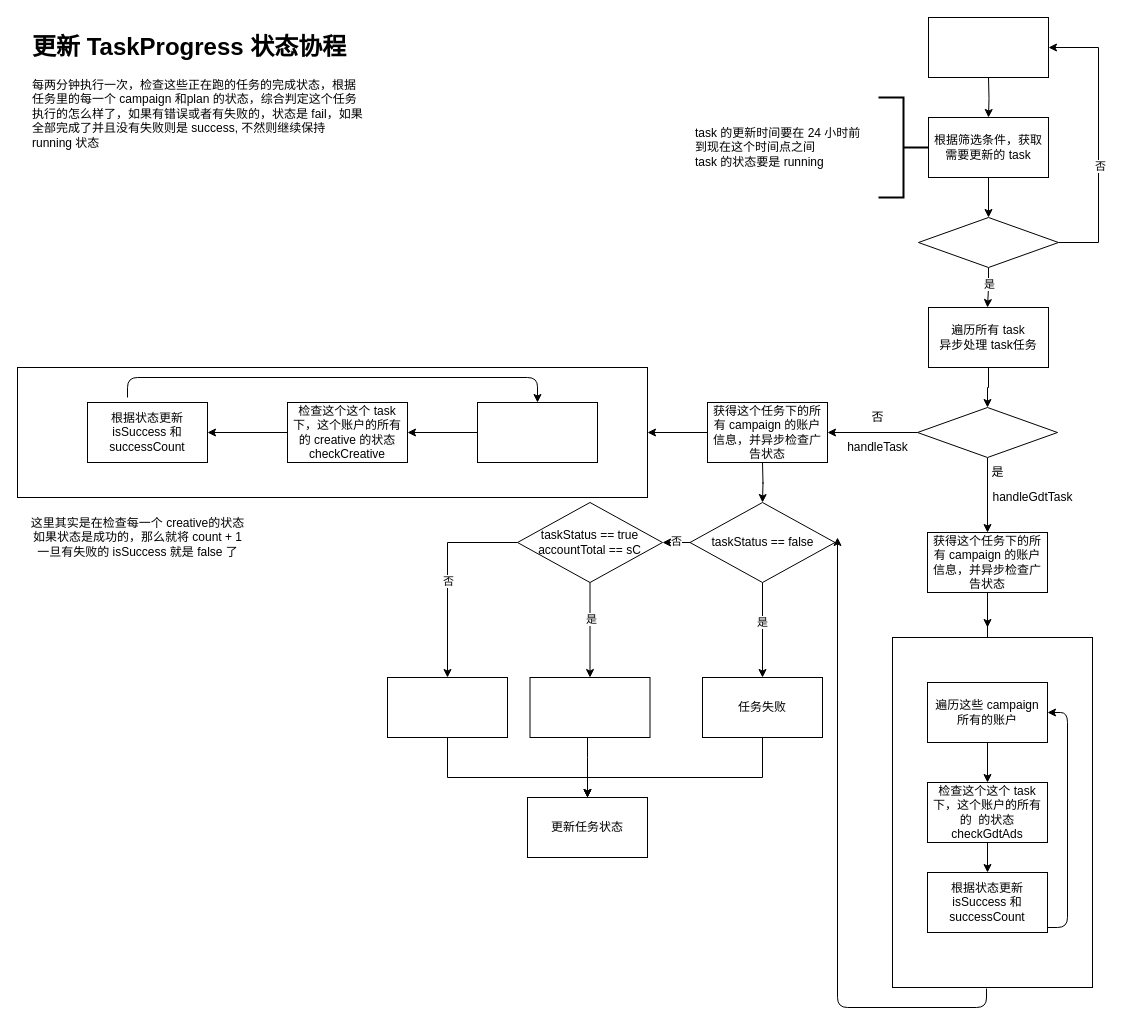
Image size: 1124x1033. Some labels were removed from this diagram. Each missing label, with the centre of its shape:
"task 是否为广点通" belongs at point 987,432.
"ticker 2m" belongs at point 988,47.
"任务成功" belongs at point 589,707.
"任务继续跑" belongs at point 447,707.
"是否有任务" belongs at point 988,242.
"遍历这些 campaign 下所有的账户" belongs at point 537,432.
